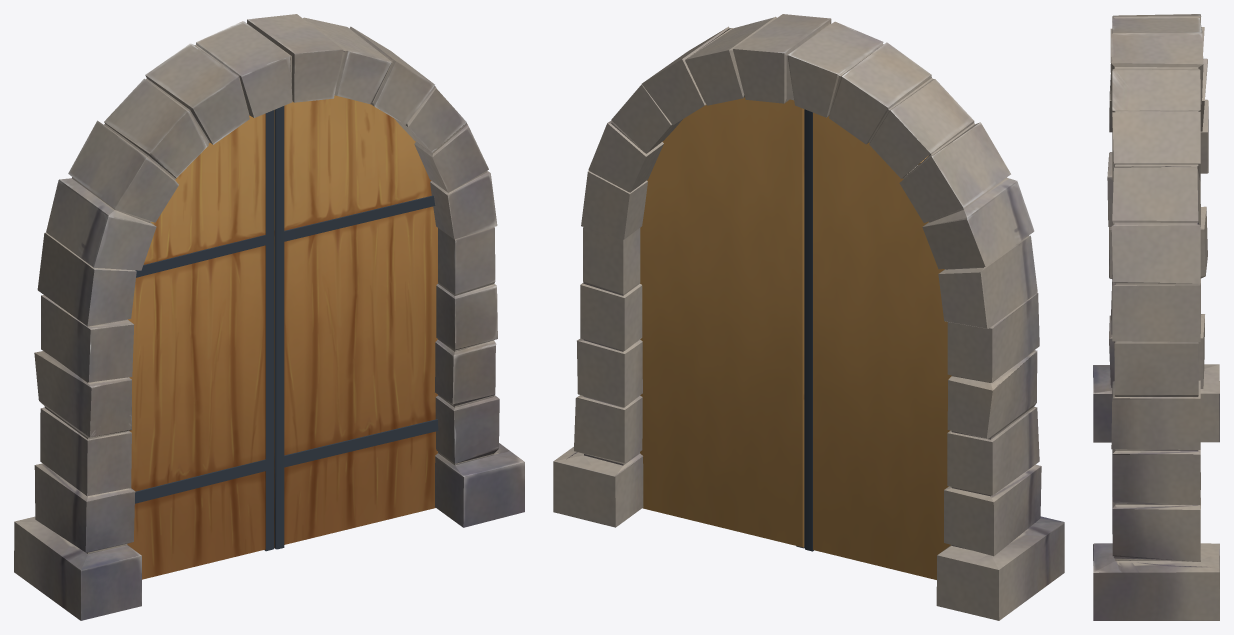
Rendered from Arco.fbx.
3 views of the same model, side by side, from view 1: azimuth 30°, elevation 25°; view 2: azimuth 150°, elevation 25°; view 3: azimuth 270°, elevation 25° (orthographic). The views are drawn at different scales.
Visible parts, largest first — view 1: Puerta De Madera, Arco, PuertaMetales; view 2: Puerta De Madera, Arco, PuertaMetales; view 3: Arco.
Boxes of the visible parts, x1,y1,x2,y2 form: Puerta De Madera: (127,95,437,579); Arco: (14,14,524,620); PuertaMetales: (135,106,438,551); Puerta De Madera: (640,97,951,579); Arco: (553,14,1064,620); PuertaMetales: (796,109,813,551); Arco: (1093,14,1219,620).
Bounding box in the file's own units: 462 × 504 × 119.
Materials: 3 (2 with a texture image).
